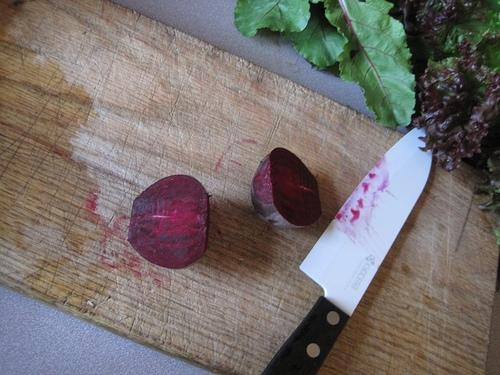lettuce: (310, 0, 417, 130), (234, 0, 311, 38), (434, 18, 491, 56), (482, 150, 500, 202)
